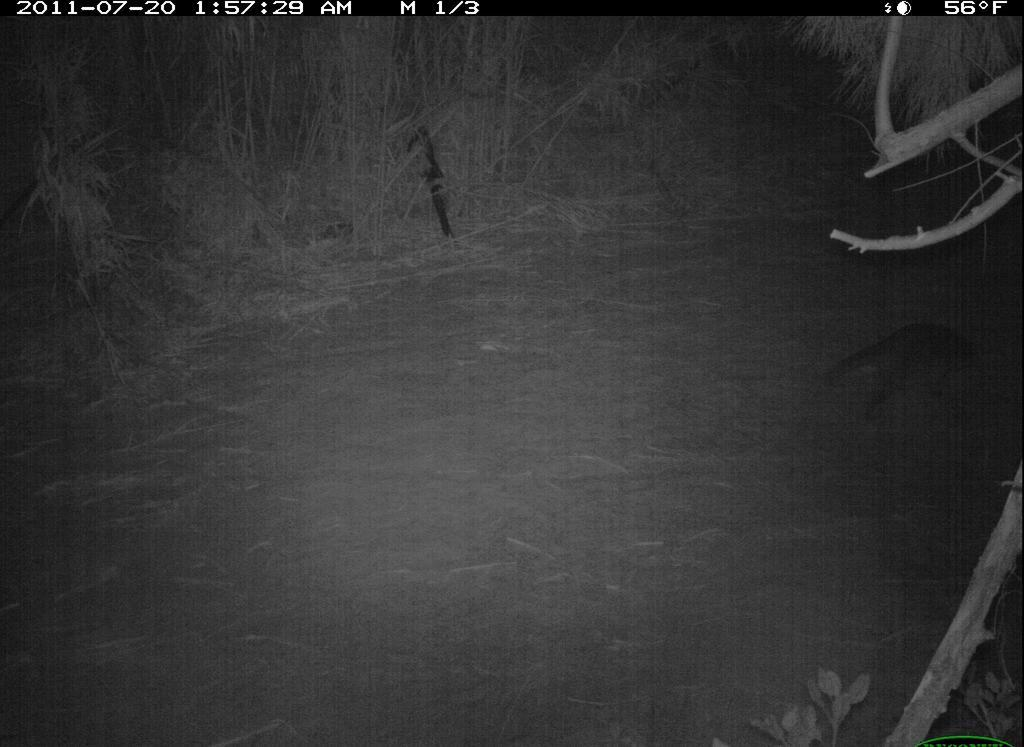raccoon: (821, 315, 995, 419)
